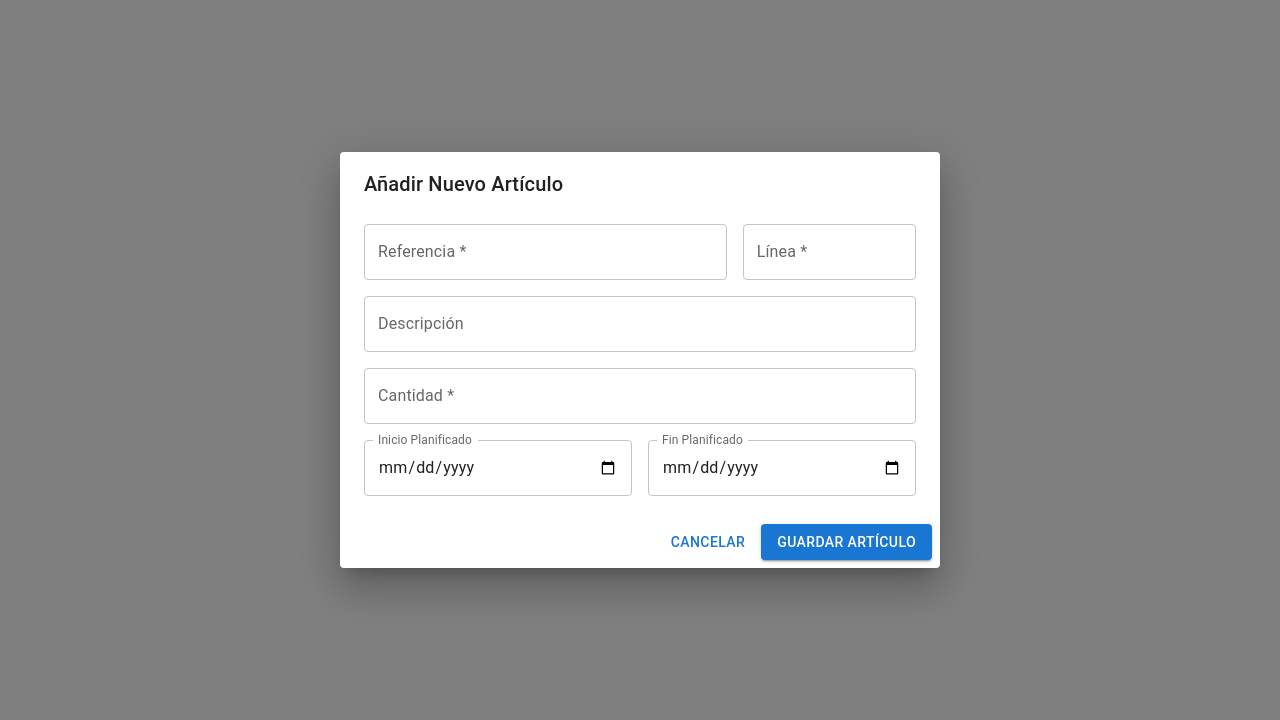
Test: Componente: AdminAddArticuloDialog › Validación: error si referencia vacía al enviar
Click the button "Guardar Artículo": x=847, y=542 x1=761 y1=524 x2=932 y2=560
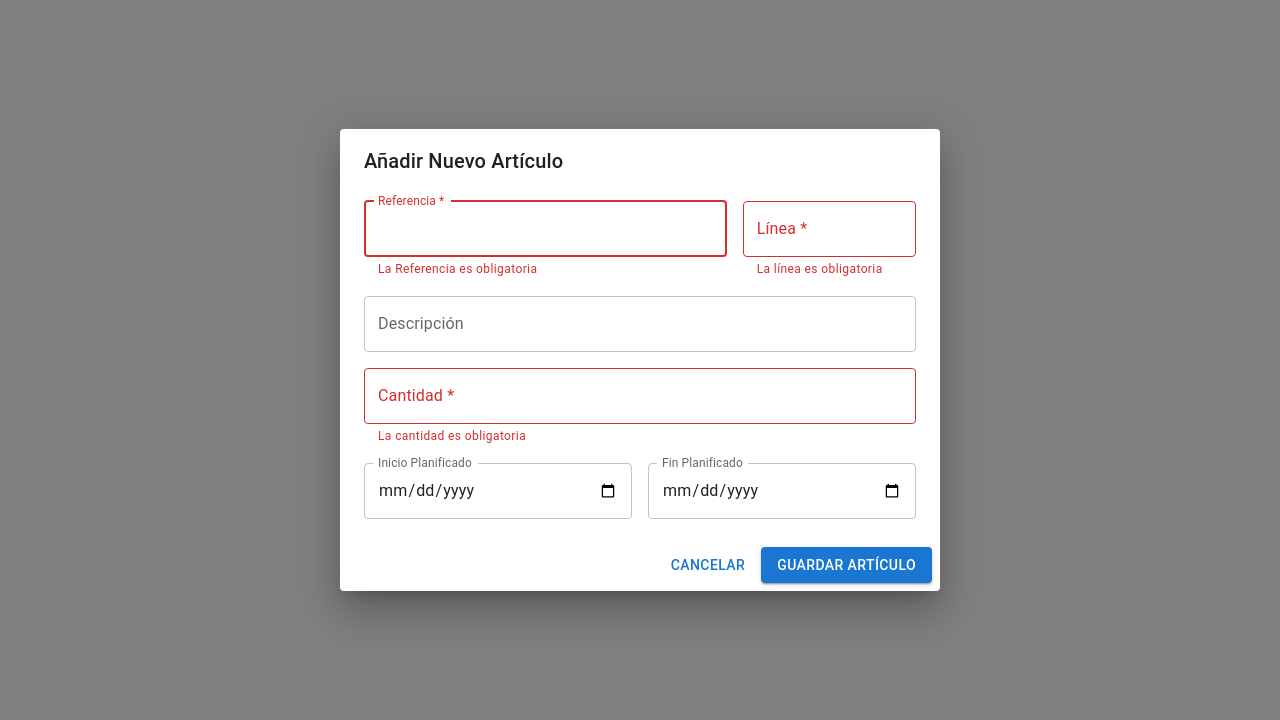
Expected: the text "La Referencia es obligatoria" is shown, x1=378 y1=262 x2=537 y2=276
